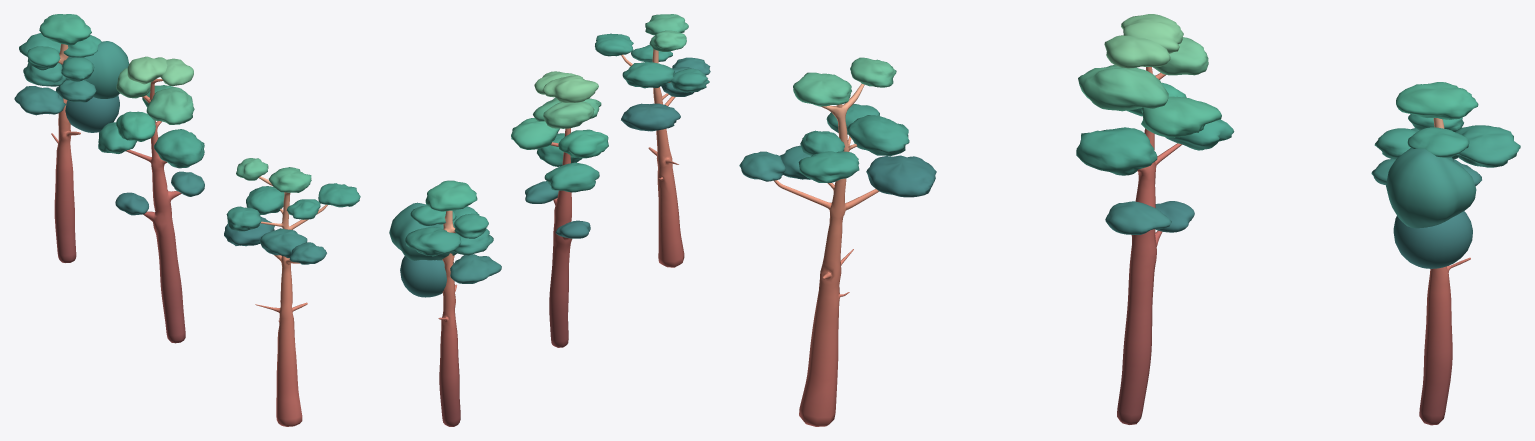
The model's file is Map3_bo4.fbx.
3 renders of one model, left to right at view 1: azimuth 30°, elevation 25°; view 2: azimuth 150°, elevation 25°; view 3: azimuth 270°, elevation 25°, orthographic. The views are drawn at different scales.
Visible parts, largest first — view 1: Tree.001, Tree, Tree.002; view 2: Tree, Tree.001, Tree.002; view 3: Tree.001, Tree, Tree.002.
Part boxes in pixels (x1,y1,x2,y2): Tree.001: (98,56,204,343); Tree: (14,14,128,262); Tree.002: (224,158,360,426); Tree: (389,180,501,426); Tree.001: (511,71,608,347); Tree.002: (595,14,710,267); Tree.001: (1076,14,1234,424); Tree: (1371,82,1520,425); Tree.002: (739,57,936,426).
Bounding box in the file's own units: 333 × 696 × 1271.
Materials: 1 (1 with a texture image).
